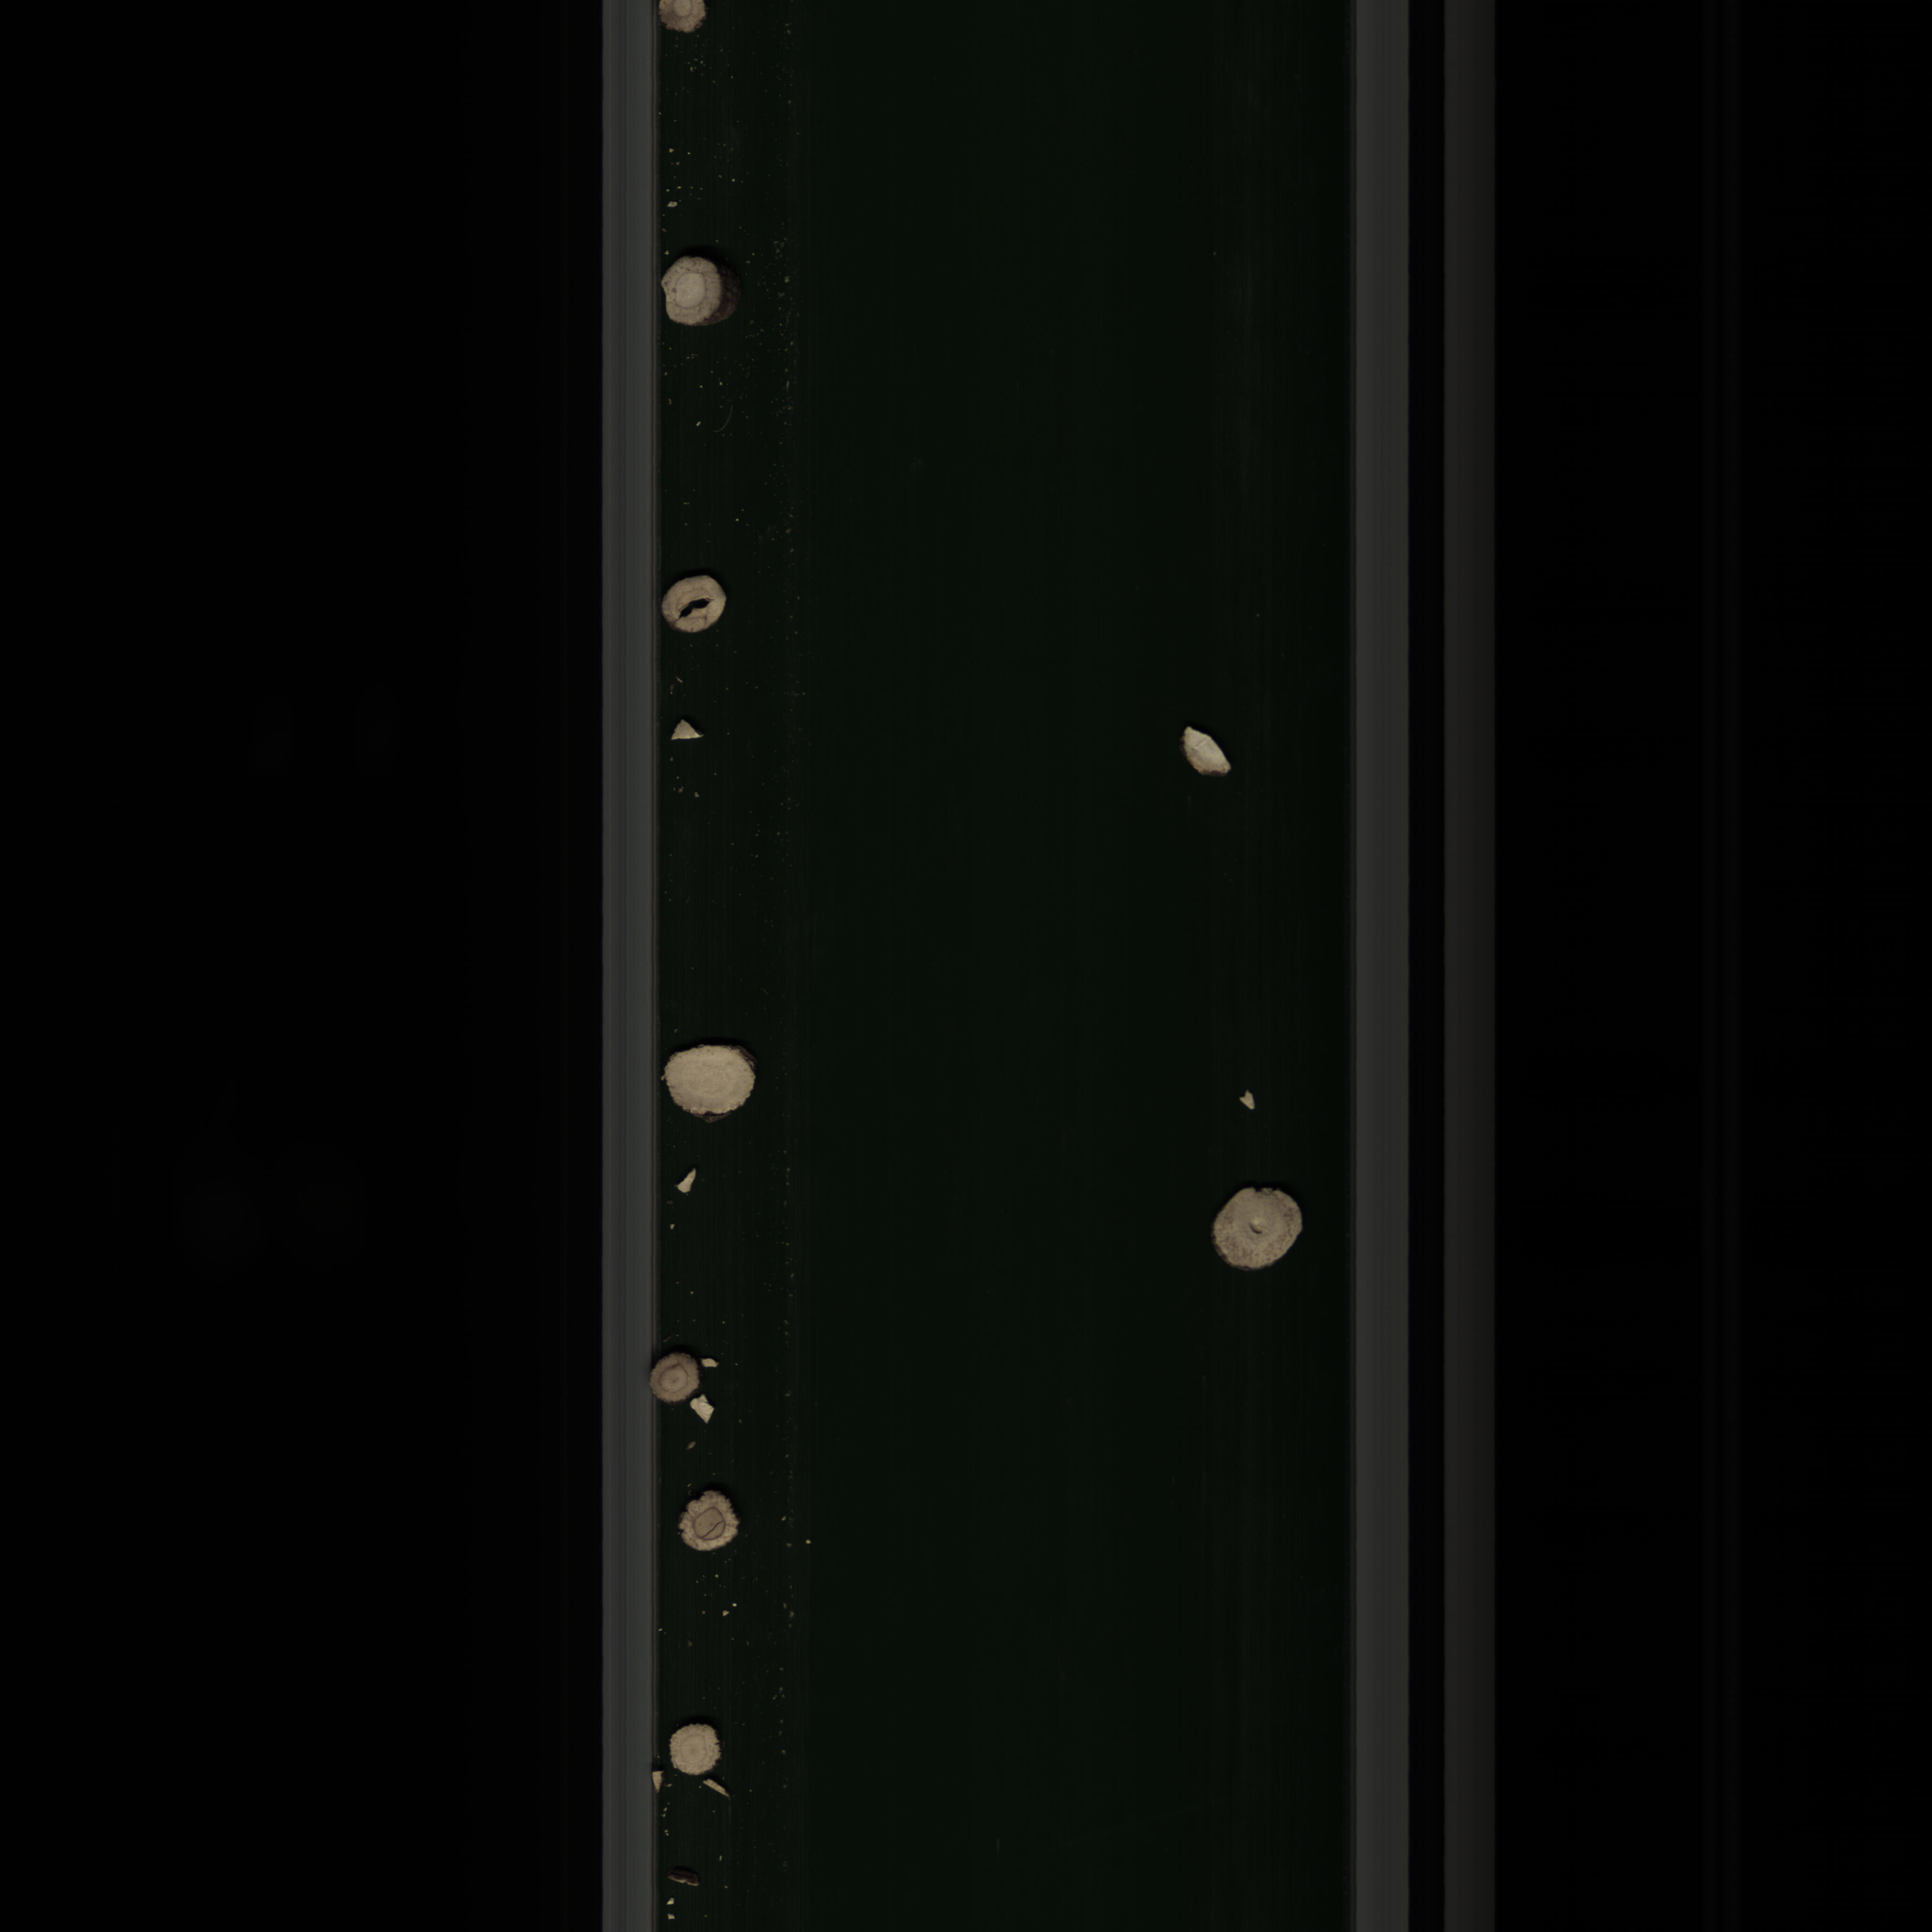bark: (660, 249, 747, 336)
debris: (1168, 720, 1242, 778), (674, 1161, 704, 1198), (671, 718, 706, 745)
hole: (658, 566, 736, 640)
moldy: (671, 1484, 754, 1559), (649, 1352, 701, 1403)
